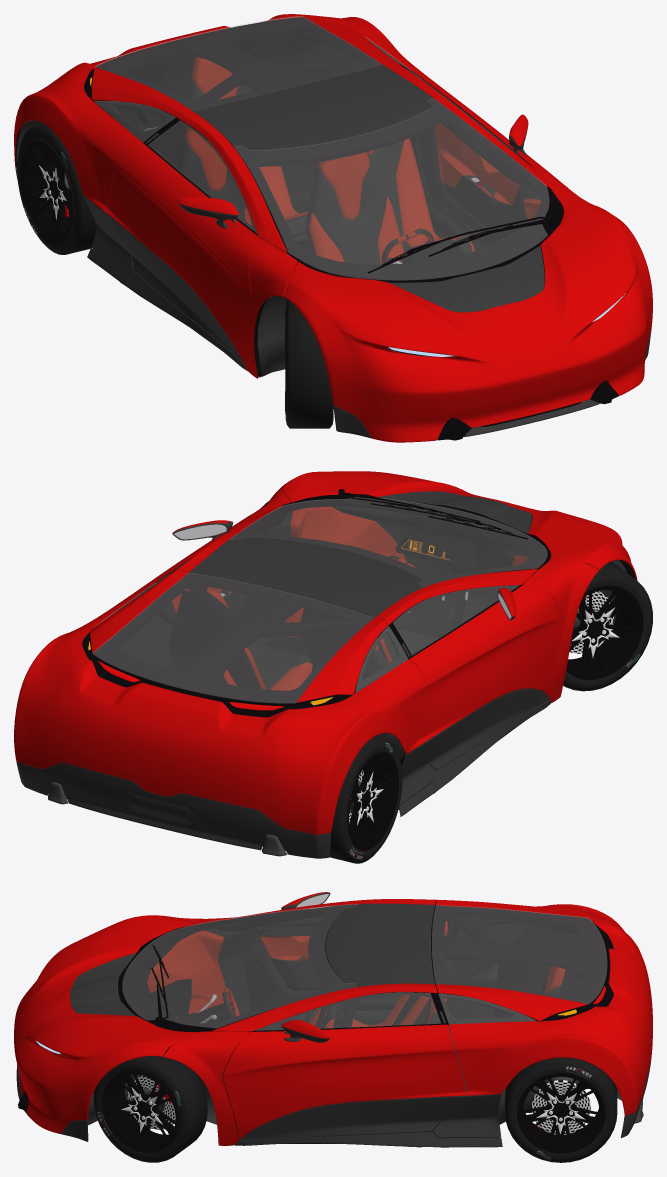
File: car-concept-editorial-webp.glb
3 renders of one model, top to bottom at view 1: azimuth 30°, elevation 25°; view 2: azimuth 150°, elevation 25°; view 3: azimuth 270°, elevation 25°, orthographic. The views are drawn at different scales.
Parts seen in each view (by area): view 1: BodyHood, BodyWindshield, BodyRearwindow, BodyDoorRColor1, BodyRearPanelsColor1, BodyRoofPanel, BodyWindshieldGasket, InteriorSeatsColor1, InteriorSeatsColor2, BodyPillars, InteriorPillar, InteriorRearHatch (+21 smaller); view 2: BodyRearPanelsColor1, BodyRearwindow, BodyWindshield, BodyPanelsColor2, BodyDoorRColor1, BodyRoofPanel, BodyHood, InteriorRearHatch, BodyPillars, InteriorPillar, BodyWindshieldGasket, InteriorDashMid (+21 smaller); view 3: BodyRearPanelsColor1, BodyWindshield, BodyDoorLColor1, BodyHood, BodyRearwindow, BodyRoofPanel, BodyPillars, BodyWindshieldGasket, BodyDoorLColor2, BodyPanelsColor2, WheelFrontL, InteriorRearHatch (+25 smaller).
Boxes of the visible parts, bbox=[...] form: BodyHood: bbox=[283, 198, 652, 442]; BodyWindshield: bbox=[234, 98, 549, 280]; BodyRearwindow: bbox=[95, 16, 382, 110]; BodyDoorRColor1: bbox=[104, 143, 257, 362]; BodyRearPanelsColor1: bbox=[14, 14, 428, 210]; BodyRoofPanel: bbox=[193, 65, 432, 150]; BodyWindshieldGasket: bbox=[234, 99, 563, 282]; InteriorSeatsColor1: bbox=[185, 57, 475, 264]; InteriorSeatsColor2: bbox=[180, 78, 472, 264]; BodyPillars: bbox=[176, 61, 598, 378]; InteriorPillar: bbox=[158, 37, 434, 168]; InteriorRearHatch: bbox=[93, 17, 383, 117]; BodyRearPanelsColor1: bbox=[14, 569, 425, 834]; BodyRearwindow: bbox=[92, 573, 373, 703]; BodyWindshield: bbox=[229, 497, 547, 587]; BodyPanelsColor2: bbox=[16, 700, 550, 858]; BodyDoorRColor1: bbox=[409, 585, 562, 742]; BodyRoofPanel: bbox=[189, 537, 422, 617]; BodyHood: bbox=[279, 471, 637, 580]; InteriorRearHatch: bbox=[93, 573, 386, 707]; BodyPillars: bbox=[175, 489, 599, 702]; InteriorPillar: bbox=[174, 574, 417, 682]; BodyWindshieldGasket: bbox=[230, 497, 550, 587]; InteriorDashMid: bbox=[331, 503, 528, 622]; BodyRearPanelsColor1: bbox=[436, 899, 652, 1115]; BodyWindshield: bbox=[122, 904, 357, 1028]; BodyDoorLColor1: bbox=[222, 1024, 467, 1139]; BodyHood: bbox=[14, 915, 196, 1133]; BodyRearwindow: bbox=[432, 905, 606, 1003]; BodyRoofPanel: bbox=[326, 903, 434, 986]; BodyPillars: bbox=[163, 899, 437, 1145]; BodyWindshieldGasket: bbox=[118, 905, 357, 1032]; BodyDoorLColor2: bbox=[240, 1096, 467, 1140]; BodyPanelsColor2: bbox=[16, 1050, 652, 1147]; WheelFrontL: bbox=[93, 1054, 207, 1162]; InteriorRearHatch: bbox=[431, 905, 606, 1020].
Bounding box in the file's own units: 2.54 × 1.15 × 4.36.
22 materials, 5 textured.
